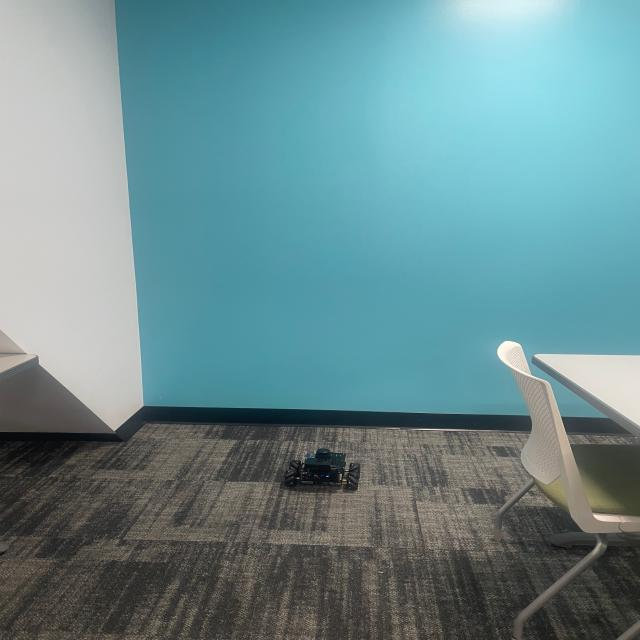ArduinoCar: (280, 444, 364, 492)
